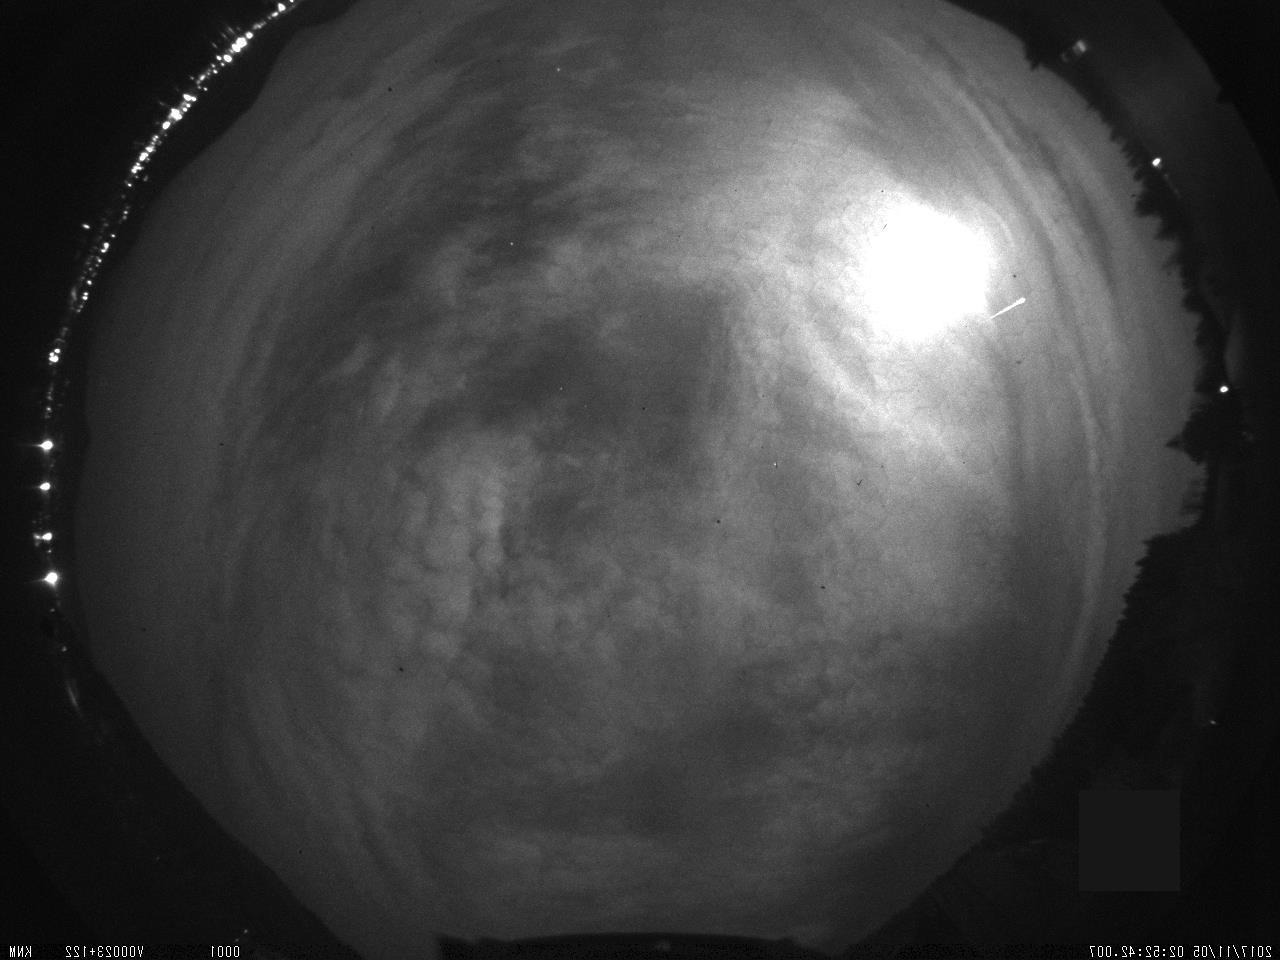meteor: (976, 289, 1040, 339)
